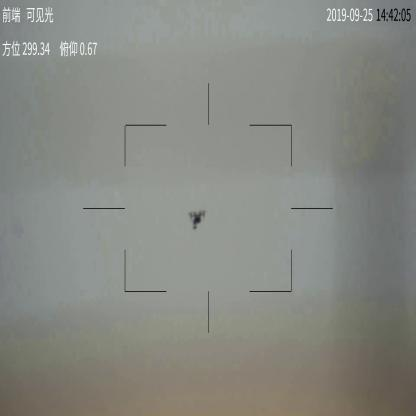uav: (186, 207, 209, 231)
